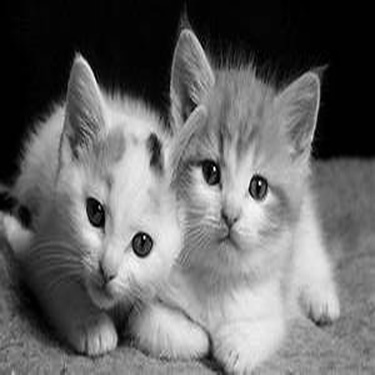cat: (10, 54, 213, 363), (162, 23, 342, 371)
